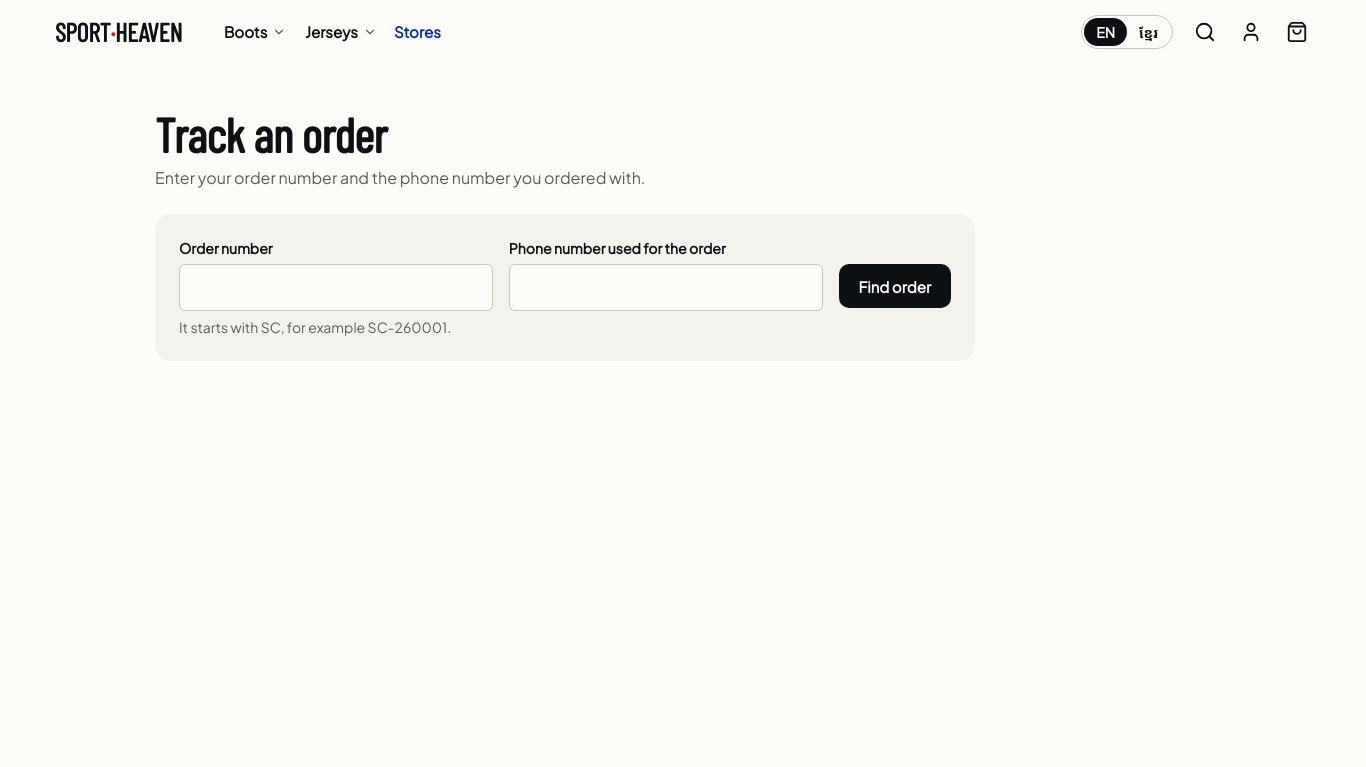
Test: tracking › finds an order by number and phone and lets an unpaid one be paid
Type "sc-260001" into the field labelled "Order number".
click(336, 288); type("sc-260001")  # box x1=179 y1=264 x2=493 y2=311
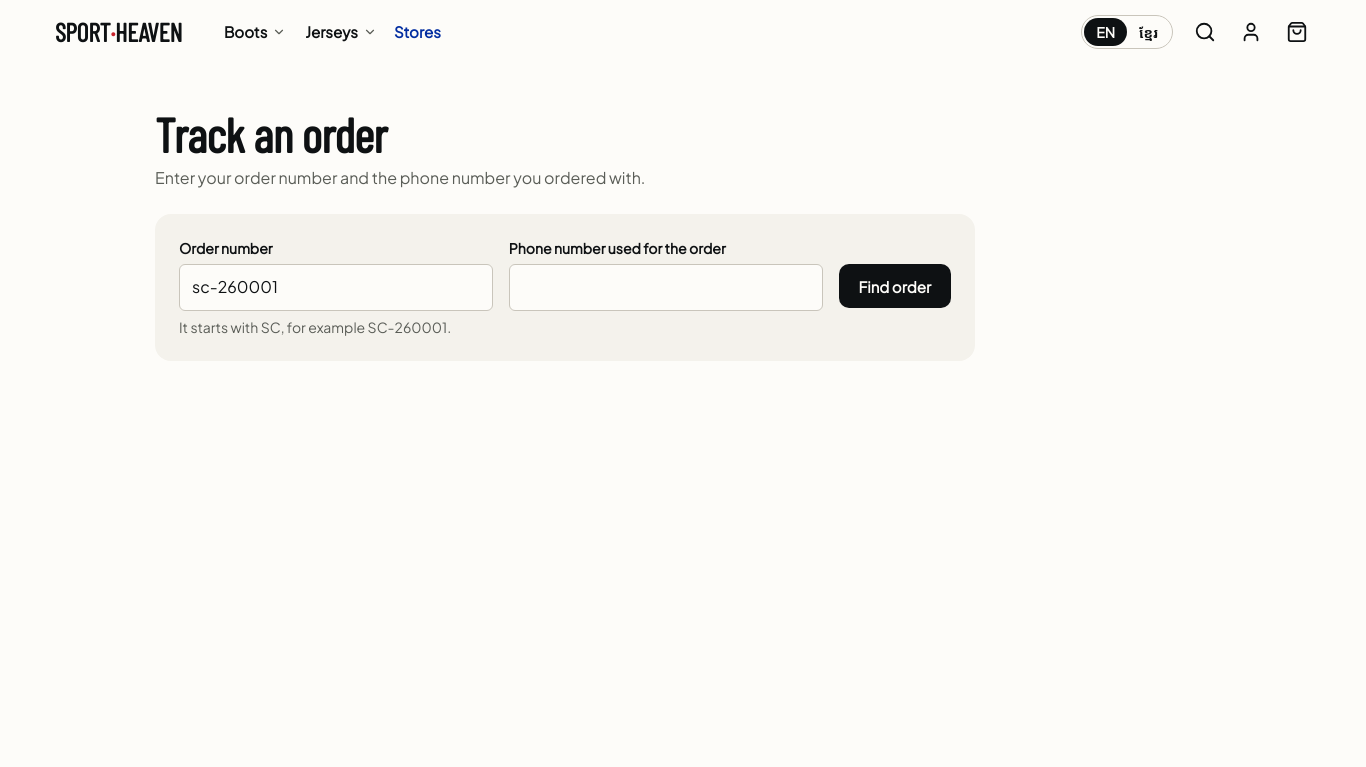
Type "012 345 678" into the field labelled "Phone number used for the order".
click(666, 288); type("012 345 678")  # box x1=509 y1=264 x2=823 y2=311
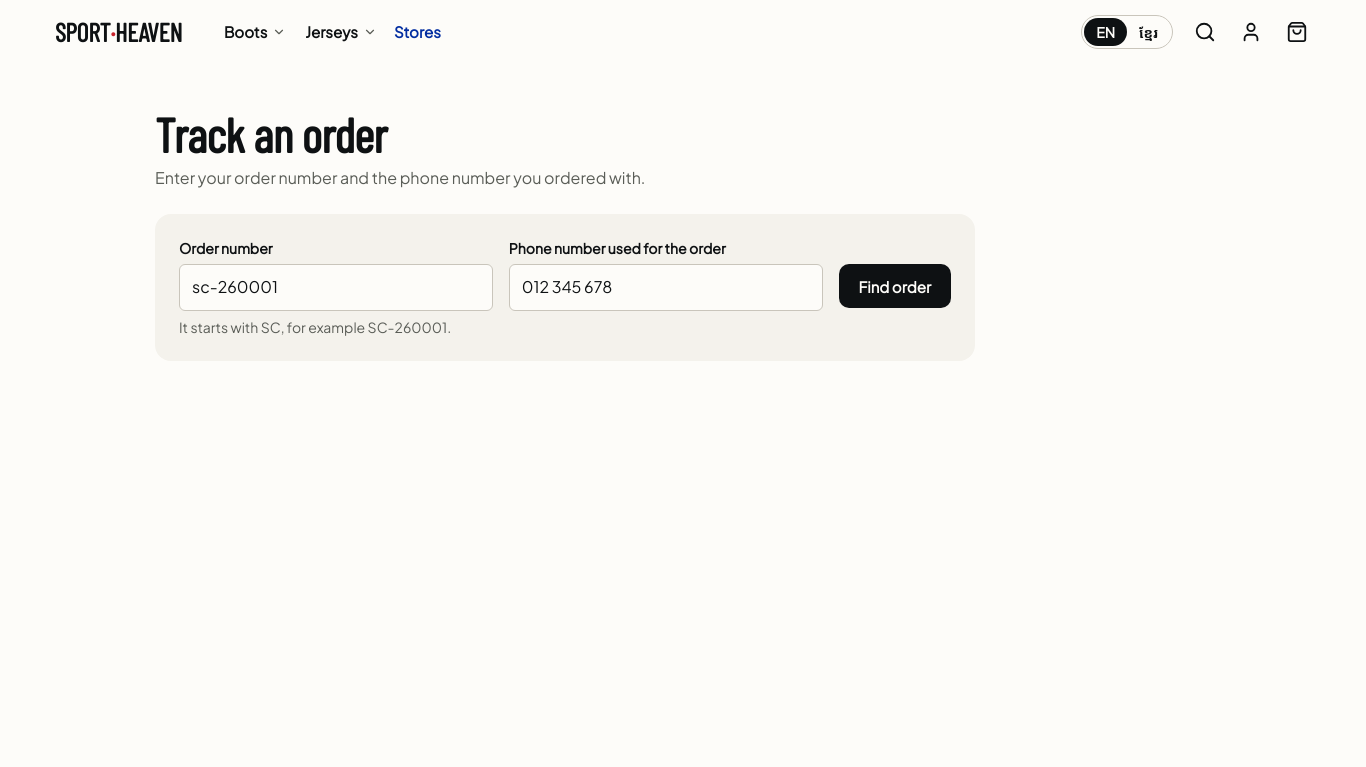
Click the button "Find order".
click(895, 286)  # box x1=838 y1=264 x2=951 y2=308
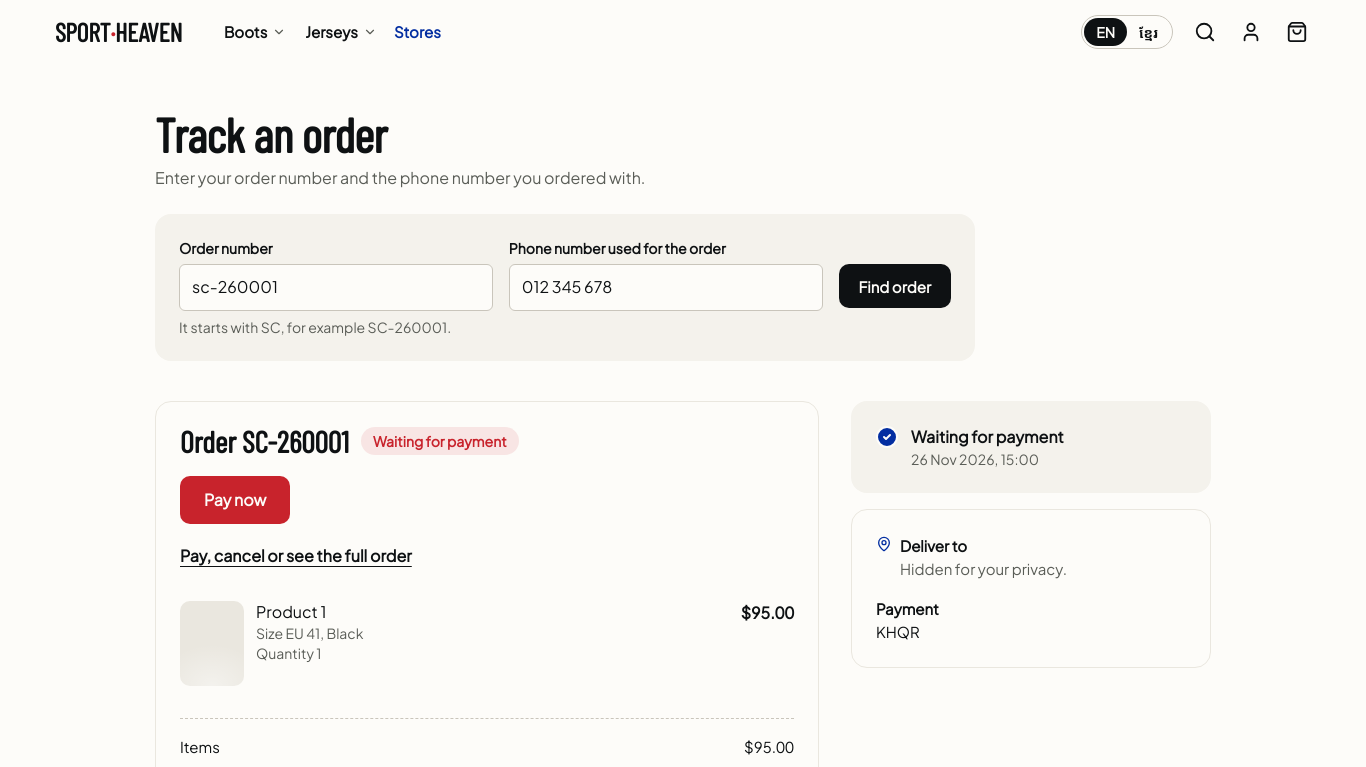
Result: the text "Waiting for payment" next to "Order SC-260001" is shown at x1=373 y1=432 x2=507 y2=450
